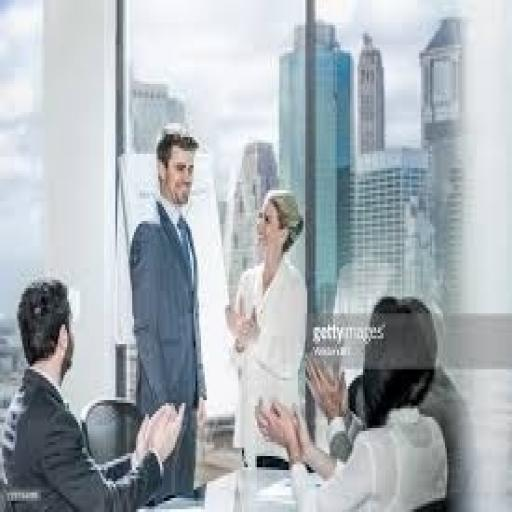clapping: (0, 274, 188, 509), (253, 294, 451, 509), (223, 185, 309, 470)
